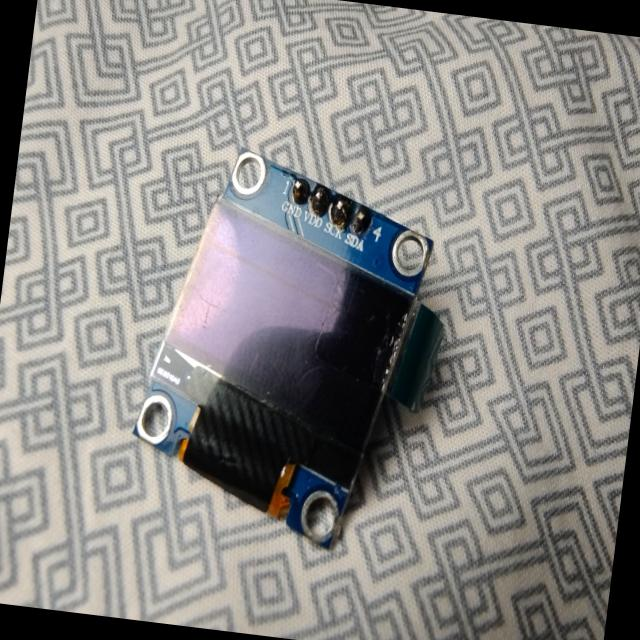oled: (113, 117, 468, 581)
